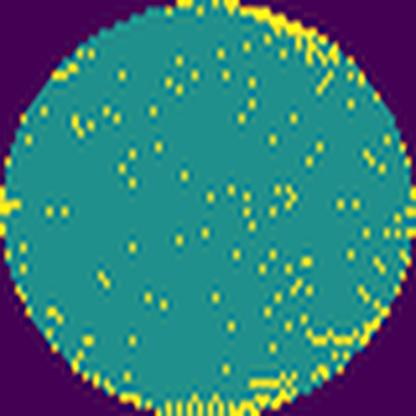Edge-Loc: (202, 0, 345, 70)
